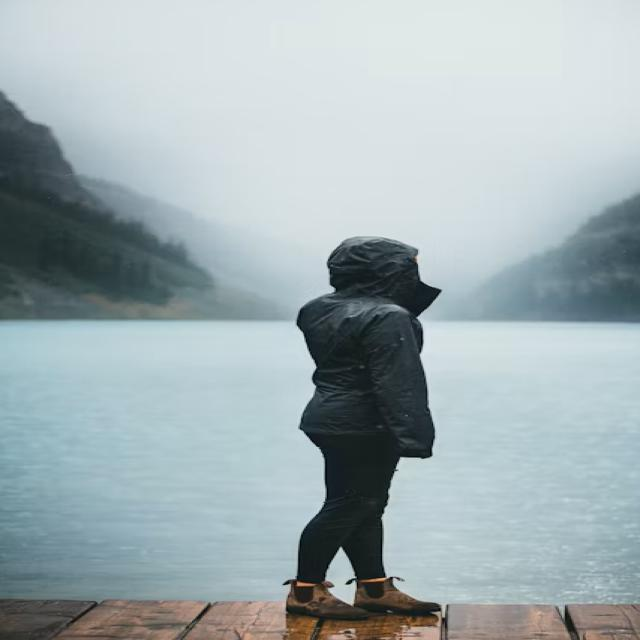Edited images: (237, 215, 505, 640)
